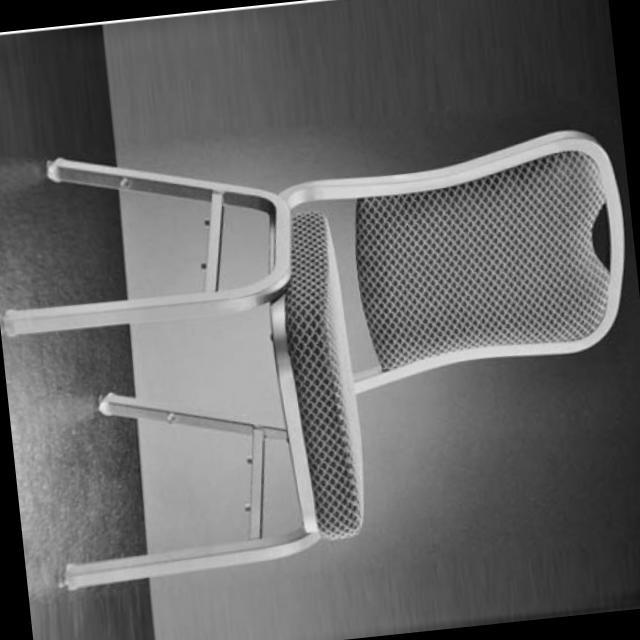chair: (0, 96, 640, 599)
